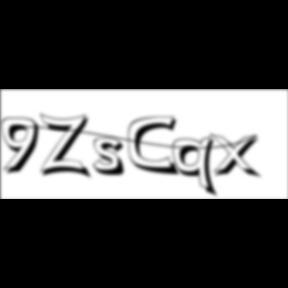9: (1, 117, 46, 177)
C: (128, 115, 183, 178)
Z: (40, 112, 96, 181)
q: (172, 135, 222, 200)
s: (92, 137, 132, 179)
x: (210, 132, 266, 181)
